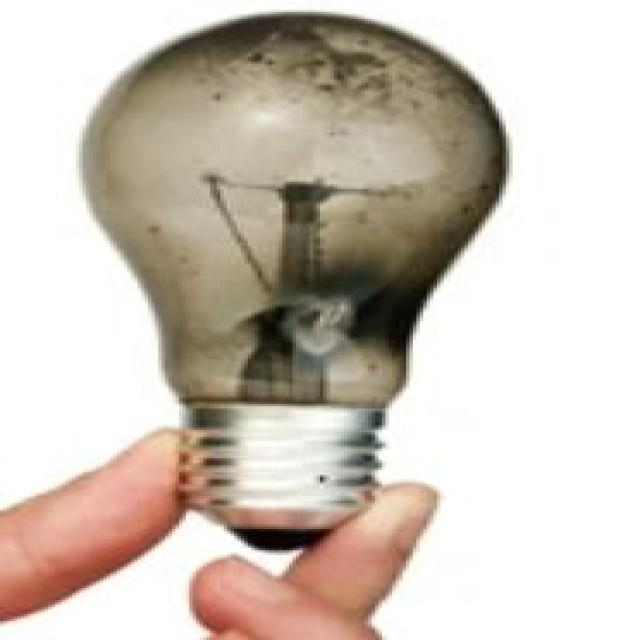electronic: (76, 7, 509, 550)
